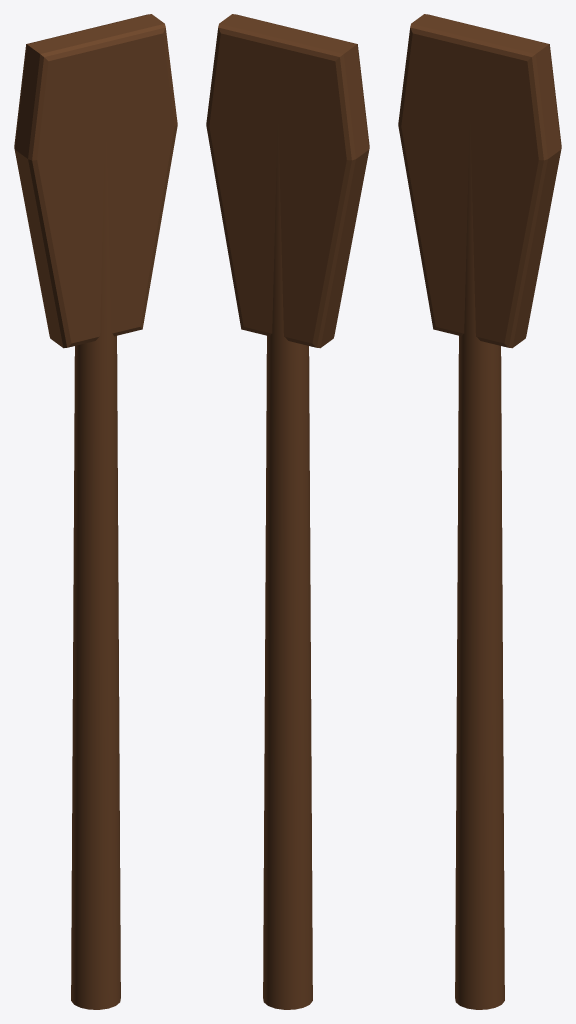
Rendered from wood_shovel.glb.
3 views of the same model, side by side, from view 1: azimuth 30°, elevation 25°; view 2: azimuth 150°, elevation 25°; view 3: azimuth 330°, elevation 25° (orthographic).
Visible parts, largest first — view 1: blade, handle; view 2: blade, handle; view 3: blade, handle.
Part boxes in pixels (<box>): blade: <box>14,14,177,348</box>; handle: <box>71,111,120,1009</box>; blade: <box>206,14,369,348</box>; handle: <box>263,111,312,1009</box>; blade: <box>398,14,561,348</box>; handle: <box>455,111,504,1009</box>.
Bounding box in the file's own units: 0.1301 × 0.805 × 0.038.
